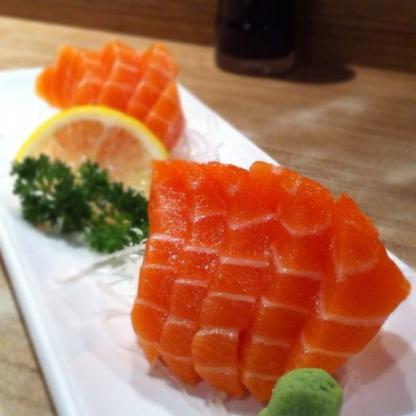salmon: (138, 164, 410, 395)
